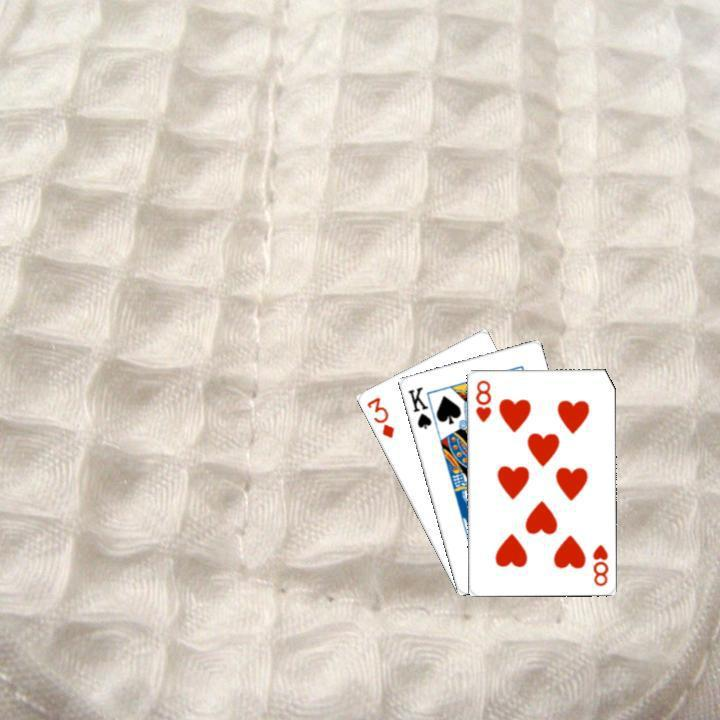3: (362, 392, 396, 440)
8: (470, 376, 493, 424), (588, 540, 610, 588)
K: (403, 382, 433, 431)
